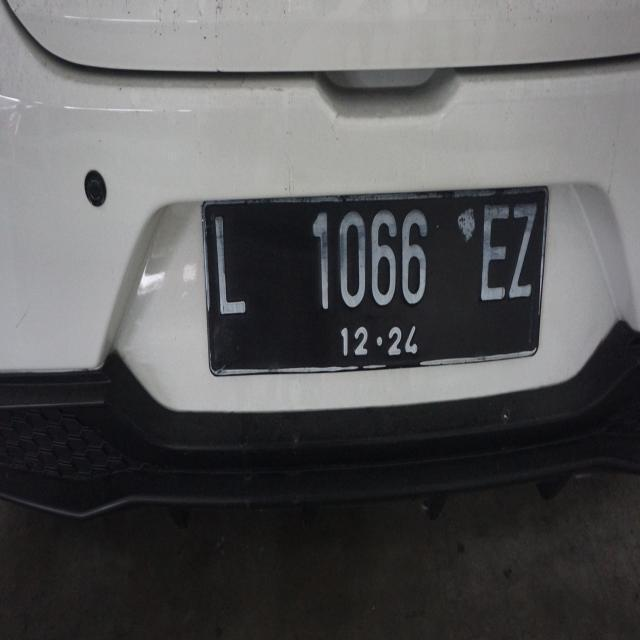0: (340, 211, 370, 307)
1: (308, 206, 340, 321)
6: (396, 205, 429, 310), (367, 202, 397, 306)
E: (476, 196, 510, 300)
L: (203, 204, 250, 332)
Z: (504, 197, 539, 306)
